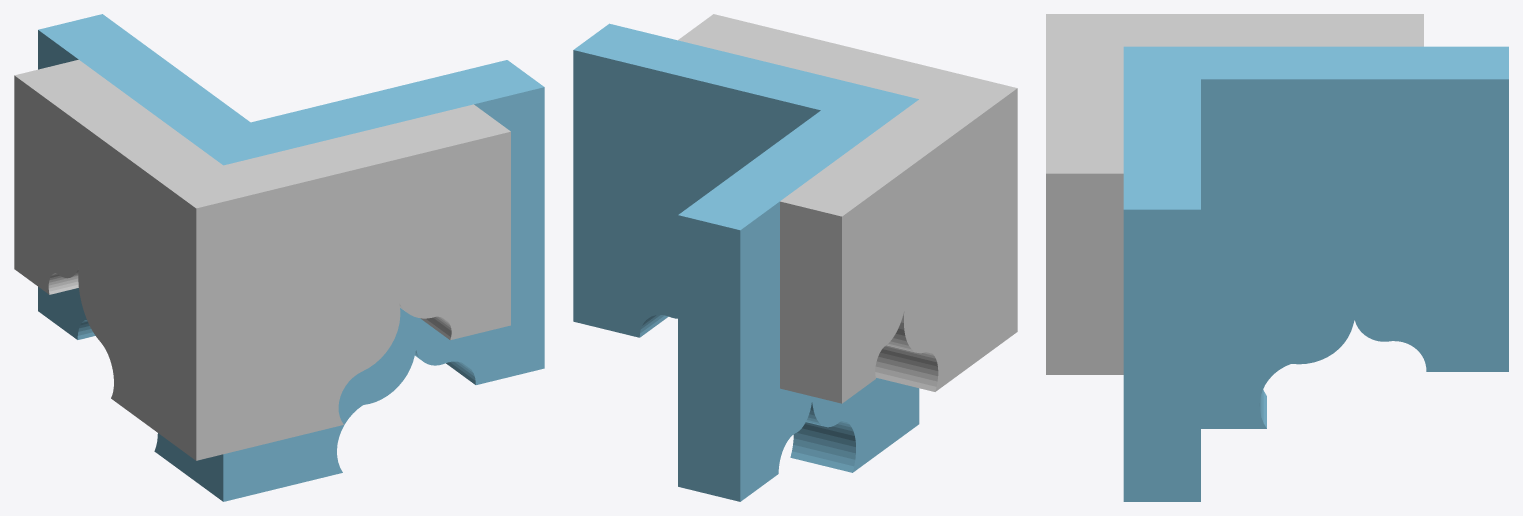
Rendered from Prop_Building_Eastern_Ornamental_Block_Corner_03.FBX.
3 renders of one model, left to right at view 1: azimuth 30°, elevation 25°; view 2: azimuth 150°, elevation 25°; view 3: azimuth 270°, elevation 25°, orthographic. The views are drawn at different scales.
Parts seen in each view (by area): view 1: Prop_Building_Eastern_Ornamental_Block_Corner_03; view 2: Prop_Building_Eastern_Ornamental_Block_Corner_03; view 3: Prop_Building_Eastern_Ornamental_Block_Corner_03.
Boxes of the visible parts, x1,y1,x2,y2 form: Prop_Building_Eastern_Ornamental_Block_Corner_03: (14,14,544,501); Prop_Building_Eastern_Ornamental_Block_Corner_03: (573,14,1017,501); Prop_Building_Eastern_Ornamental_Block_Corner_03: (1046,14,1508,501).
Bounding box in the file's own units: 950 × 792 × 950.
